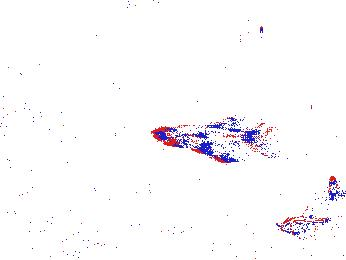red belly glassfish: (278, 215, 331, 234), (326, 174, 340, 197)
redtail glassfish: (148, 119, 257, 160)
